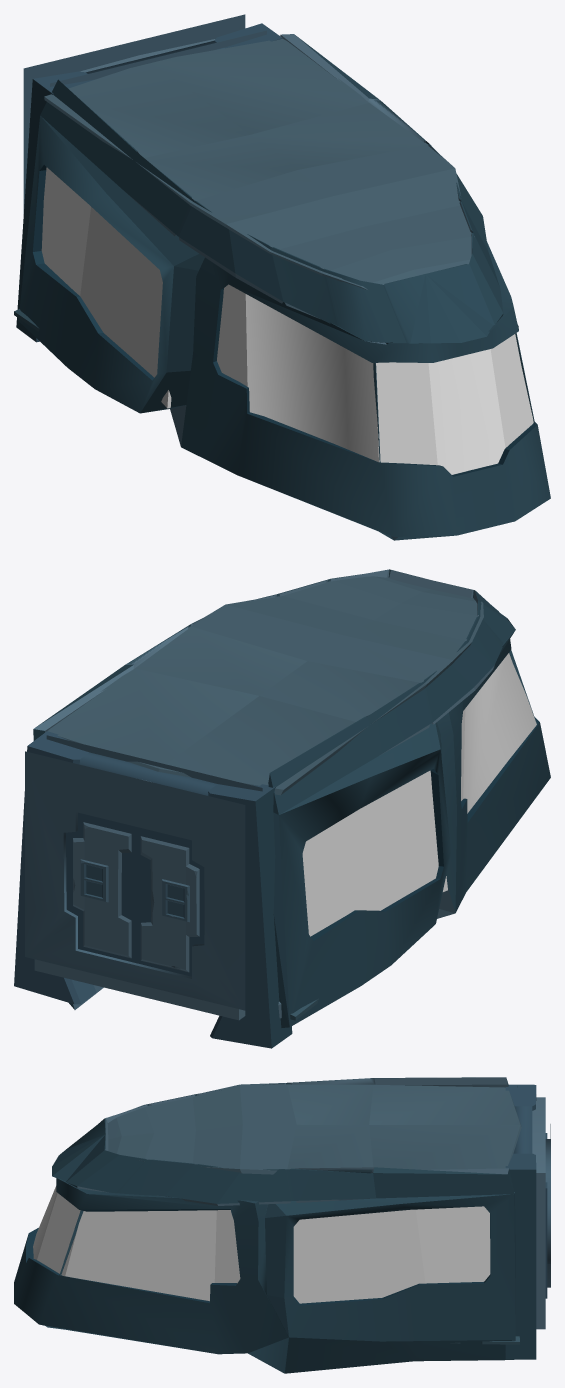
Rendered from radio.fbx.
3 views of the same model, one above another, from view 1: azimuth 30°, elevation 25°; view 2: azimuth 150°, elevation 25°; view 3: azimuth 270°, elevation 25° (orthographic). The views are drawn at different scales.
Parts seen in each view (by area): view 1: PuenteEsqueleto, PuenteTecho, PuenteCristales, PuertaDobleModif; view 2: PuenteEsqueleto, PuenteTecho, PuertaDobleModif, PuenteCristales, PuertaDobleDer, PuertaDobleIzq, MarcoPuertaModif; view 3: PuenteEsqueleto, PuenteTecho, PuenteCristales, MarcoPuertaModif, PuertaDobleModif.
Part boxes in pixels (bbox=[...]): PuenteEsqueleto: bbox=[16, 23, 550, 540]; PuenteTecho: bbox=[44, 38, 474, 290]; PuenteCristales: bbox=[41, 167, 533, 474]; PuertaDobleModif: bbox=[23, 14, 266, 213]; PuenteEsqueleto: bbox=[14, 569, 550, 1048]; PuenteTecho: bbox=[48, 576, 483, 795]; PuertaDobleModif: bbox=[25, 735, 262, 1010]; PuenteCristales: bbox=[302, 653, 536, 936]; PuertaDobleDer: bbox=[66, 812, 136, 962]; PuertaDobleIzq: bbox=[136, 827, 204, 976]; MarcoPuertaModif: bbox=[34, 779, 245, 1020]; PuenteEsqueleto: bbox=[14, 1077, 536, 1373]; PuenteTecho: bbox=[107, 1083, 521, 1174]; PuenteCristales: bbox=[33, 1186, 490, 1303]; MarcoPuertaModif: bbox=[532, 1097, 545, 1329]; PuertaDobleModif: bbox=[517, 1086, 550, 1287].
Size of the model in its own units: 525 by 494 by 1073.
